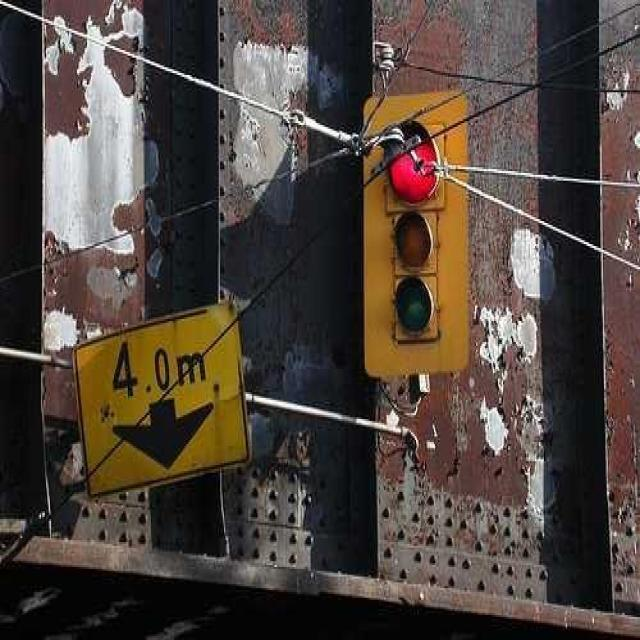Traffic Light -Red-: (373, 111, 456, 362)
